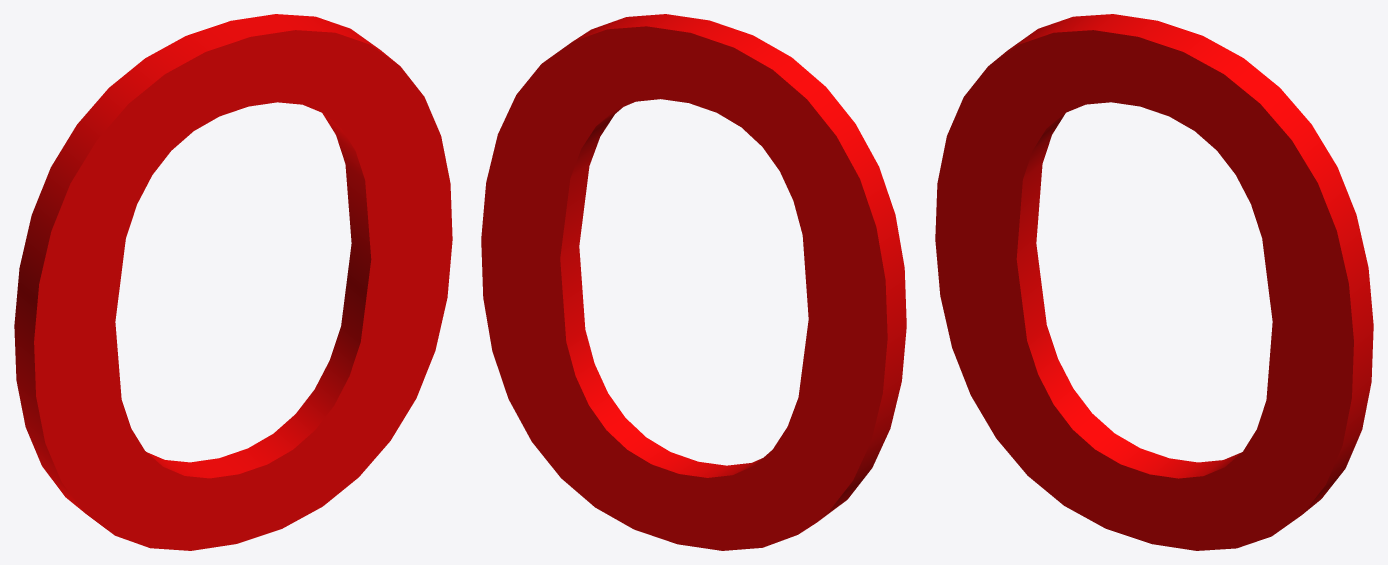
File: original-9.obj
The picture shows the model from 3 angles, left to right: view 1: azimuth 30°, elevation 25°; view 2: azimuth 150°, elevation 25°; view 3: azimuth 330°, elevation 25°; orthographic projection. The views are drawn at different scales.
Parts seen in each view (by area): view 1: mesh13/mesh13-geometry#mesh13-geometry; view 2: mesh13/mesh13-geometry#mesh13-geometry; view 3: mesh13/mesh13-geometry#mesh13-geometry.
Part boxes in pixels (left/top/right/bottom): mesh13/mesh13-geometry#mesh13-geometry: left=14, top=14, right=452, bottom=550; mesh13/mesh13-geometry#mesh13-geometry: left=481, top=14, right=906, bottom=550; mesh13/mesh13-geometry#mesh13-geometry: left=935, top=14, right=1373, bottom=550.
Bounding box in the file's own units: 0.0313 × 0.0371 × 0.00429.
